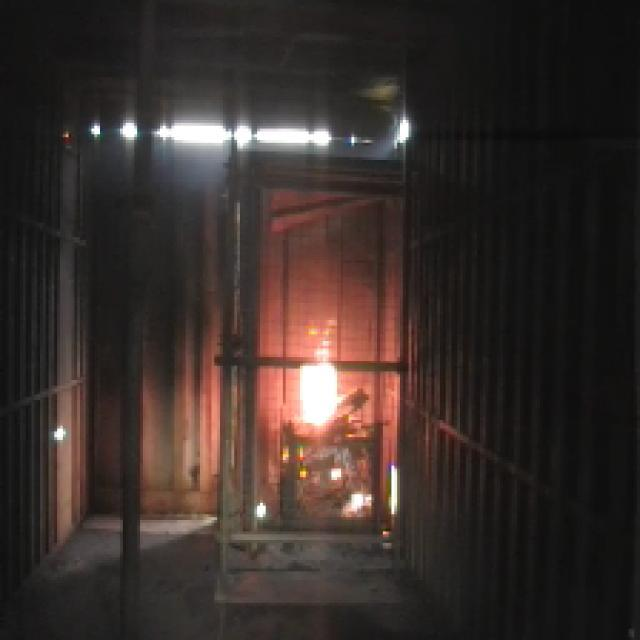Fire: (293, 338, 339, 429)
